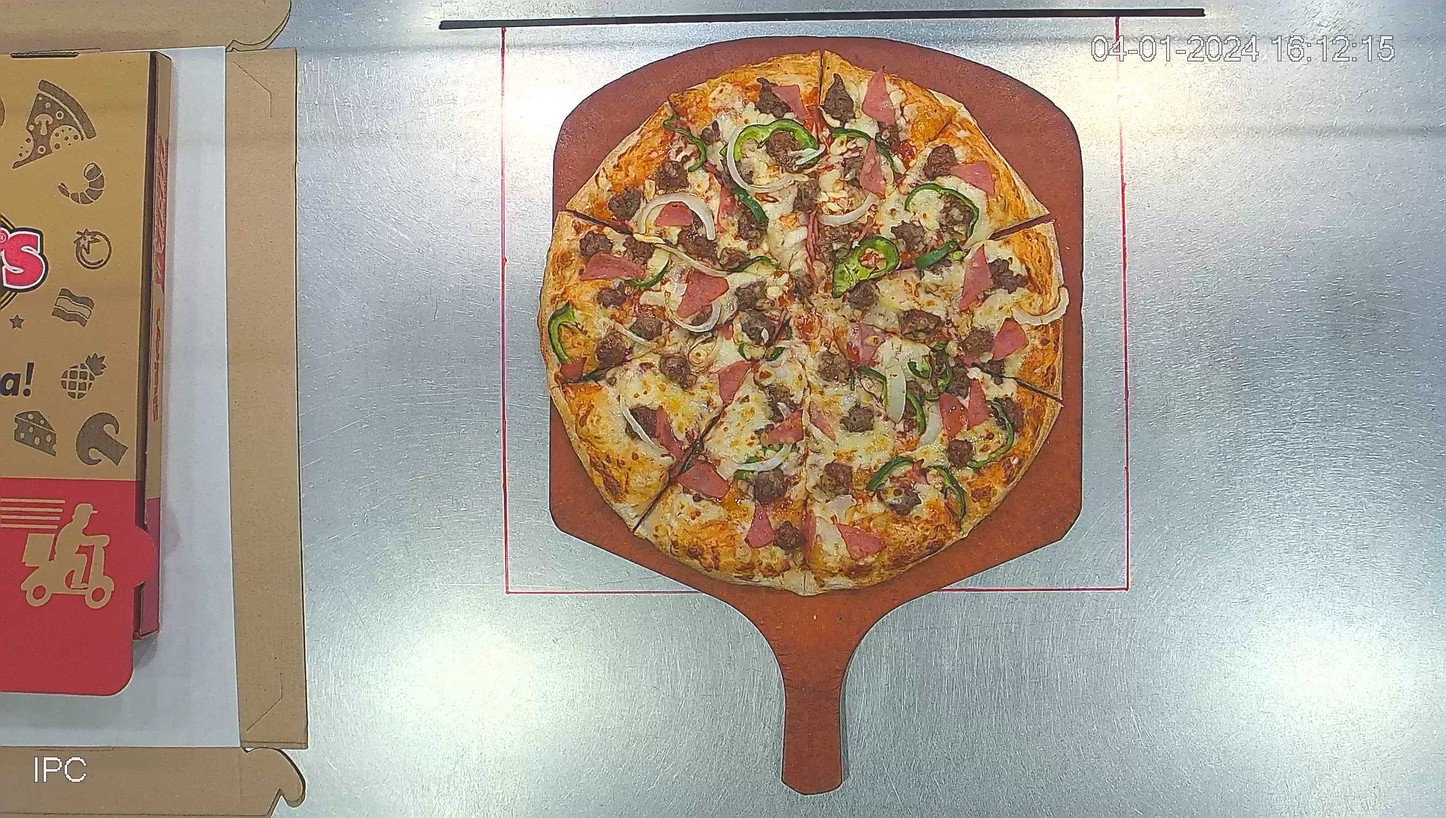hawaiian: (538, 47, 1070, 596)
